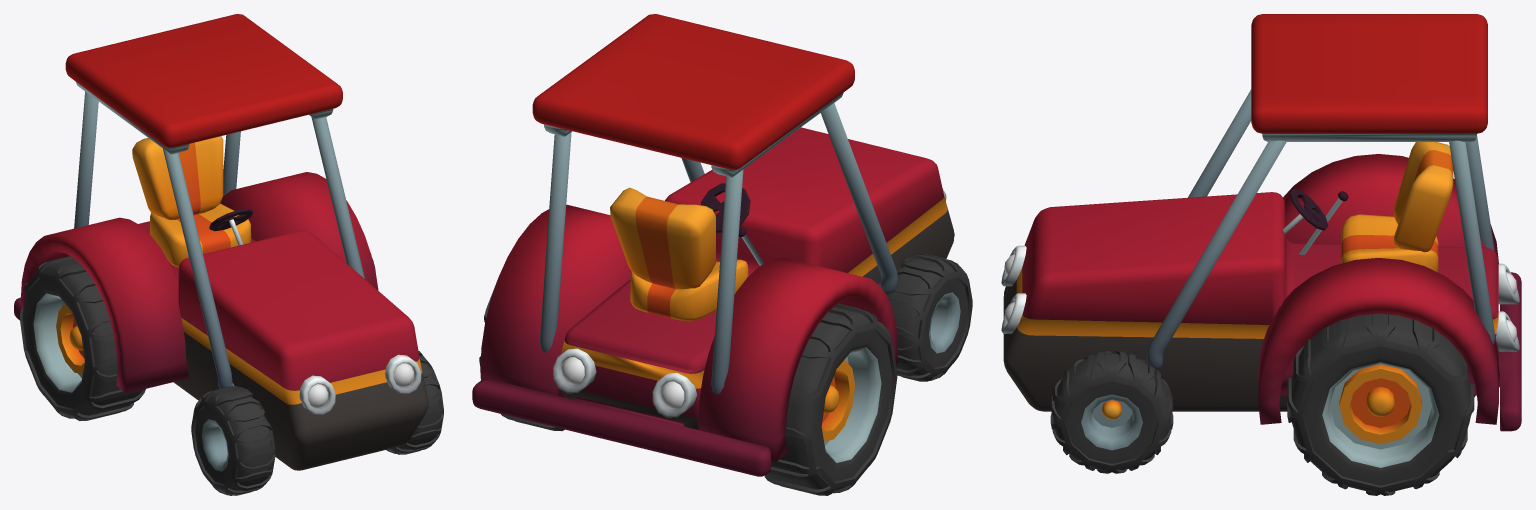
File: TractorRed.fbx
3 renders of one model, left to right at view 1: azimuth 30°, elevation 25°; view 2: azimuth 150°, elevation 25°; view 3: azimuth 270°, elevation 25°, orthographic. The views are drawn at different scales.
Visible parts, largest first — view 1: Tractor, TractorRearWheels, TractorFRWheel, TractorFLWheel; view 2: Tractor, TractorRearWheels, TractorFRWheel; view 3: Tractor, TractorRearWheels, TractorFLWheel.
Part boxes in pixels (x1,y1,x2,y2): Tractor: (14, 14, 428, 470); TractorRearWheels: (20, 256, 375, 420); TractorFRWheel: (191, 386, 275, 495); TractorFLWheel: (386, 351, 443, 454); Tractor: (472, 14, 954, 476); TractorRearWheels: (479, 282, 897, 495); TractorFRWheel: (887, 254, 972, 381); Tractor: (1001, 14, 1521, 431); TractorRearWheels: (1287, 313, 1474, 495); TractorFLWheel: (1050, 351, 1173, 473).
Bounding box in the file's own units: 0.9872 × 1.04 × 1.36.
